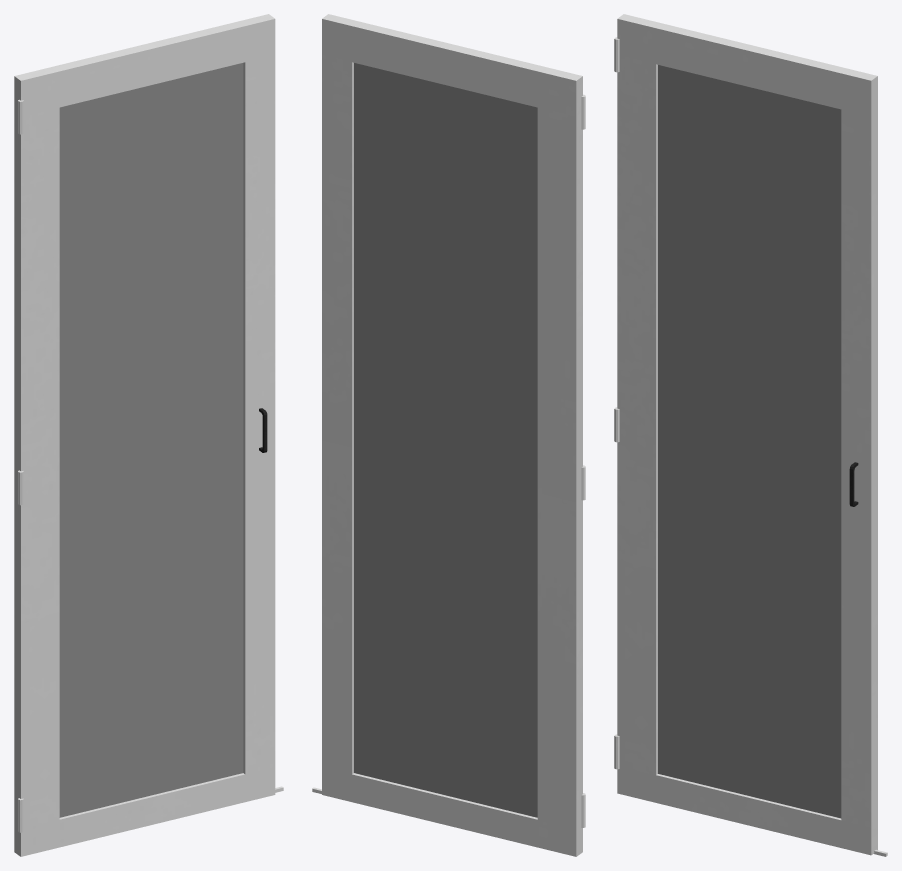
File: SM_柜子门01.fbx
3 views of the same model, side by side, from view 1: azimuth 30°, elevation 25°; view 2: azimuth 150°, elevation 25°; view 3: azimuth 330°, elevation 25° (orthographic).
Parts seen in each view (by area): view 1: SM_柜子门01; view 2: SM_柜子门01; view 3: SM_柜子门01.
Part boxes in pixels (x1=…): SM_柜子门01: x1=14, y1=14, x2=283, y2=856; SM_柜子门01: x1=312, y1=14, x2=585, y2=856; SM_柜子门01: x1=614, y1=14, x2=887, y2=856.
Bounding box in the file's own units: 0.6071 × 1.68 × 0.046.
